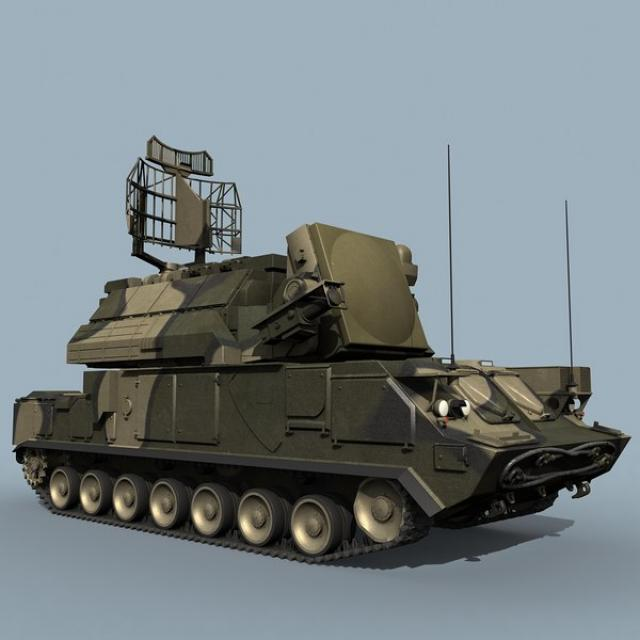MIL_EW_RDR: (18, 140, 628, 571)
